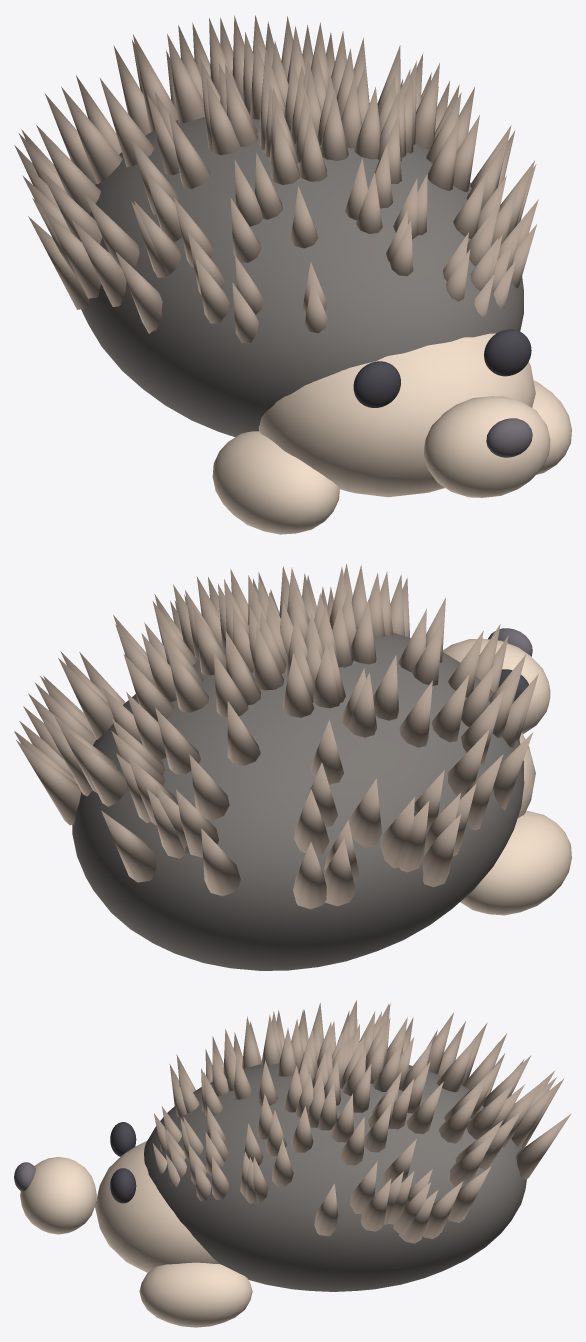
Rendered from hedgehog-european-hedgehog.glb.
The picture shows the model from 3 angles, top to bottom: view 1: azimuth 30°, elevation 25°; view 2: azimuth 150°, elevation 25°; view 3: azimuth 270°, elevation 25°; orthographic projection. The views are drawn at different scales.
Parts seen in each view (by area): view 1: material_6d5646, material_322e2b, material_d4ad8b, material_100f13, material_29252a; view 2: material_6d5646, material_322e2b, material_d4ad8b, material_29252a; view 3: material_6d5646, material_322e2b, material_d4ad8b, material_100f13, material_29252a.
Boxes of the visible parts, bbox=[...] form: material_6d5646: bbox=[14, 15, 538, 342]; material_322e2b: bbox=[81, 117, 523, 437]; material_d4ad8b: bbox=[212, 333, 571, 534]; material_100f13: bbox=[353, 329, 531, 407]; material_29252a: bbox=[486, 418, 532, 457]; material_6d5646: bbox=[14, 564, 538, 909]; material_322e2b: bbox=[72, 626, 524, 970]; material_d4ad8b: bbox=[442, 638, 571, 915]; material_29252a: bbox=[488, 628, 532, 656]; material_6d5646: bbox=[152, 1000, 571, 1243]; material_322e2b: bbox=[144, 1063, 526, 1291]; material_d4ad8b: bbox=[20, 1140, 252, 1327]; material_100f13: bbox=[110, 1122, 136, 1203]; material_29252a: bbox=[14, 1162, 35, 1191].
Size of the model in its own units: 0.9031 by 0.6894 by 1.38.
